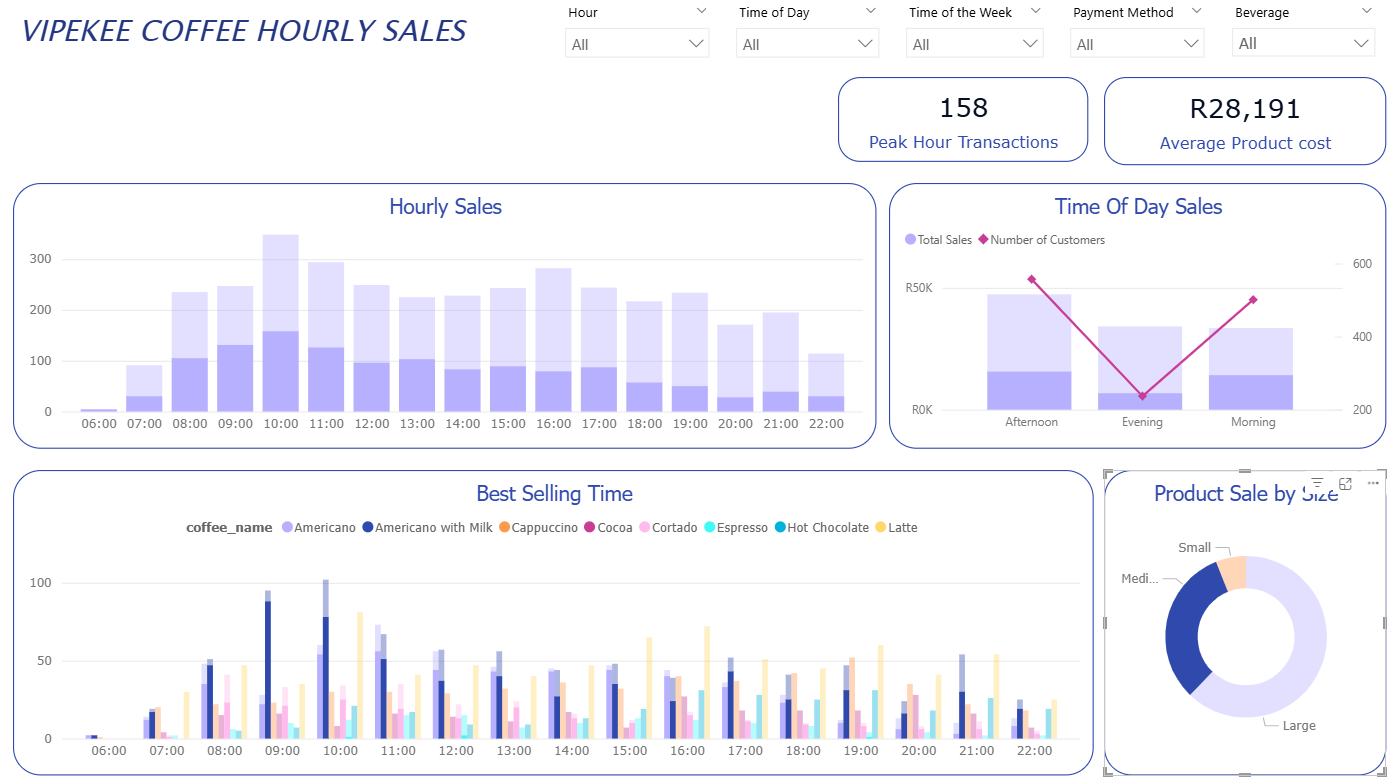

The page's visual inventory and layout, read from the dashboard file:
{"tool":"powerbi","page":{"name":"Hourly report","canvas":[1280,720],"ordinal":1},"visuals":[{"type":"clusteredColumnChart","title":"Hourly Sales ","fields":{"Category":["Coffee_Shop_Facts.Hour Label"],"Y":["Coffee_Shop_Facts.Total Transactions"]},"box":[18.1,172.3,782.6,241.2],"z":0},{"type":"slicer","fields":{"Values":["Dim_Payment.Day_Type"]},"box":[817.9,3.6,145.1,65.3],"z":1000},{"type":"lineStackedColumnComboChart","title":"Time Of Day Sales","fields":{"Category":["Dim_time.TimeOfDay"],"Y":["Sum(Coffee_Shop_Facts.money)"],"Y2":["CountNonNull(Coffee_Shop_Facts.card)"]},"box":[812.5,172.3,450.7,241.2],"z":2000},{"type":"slicer","fields":{"Values":["Dim_time.TimeOfDay"]},"box":[664.2,3.6,149.6,65.3],"z":3000},{"type":"slicer","fields":{"Values":["Coffee_Shop_Facts.PaymentMethod"]},"box":[967.1,3.6,142.4,65.3],"z":4000},{"type":"cardVisual","fields":{"Data":["Avg(Coffee_Shop_Facts.money)"]},"box":[1007.5,76.2,255.7,79.8],"z":7000},{"type":"slicer","fields":{"Values":["Coffee_Shop_Facts.coffee_name"]},"box":[1113.6,3.6,149.6,65.3],"z":10000},{"type":"donutChart","title":"Product Sale by Size","fields":{"Category":["Coffee_Shop_Facts.size"],"Y":["Sum(Coffee_Shop_Facts.money)"]},"box":[1007.5,432.5,255.7,277.5],"z":11000},{"type":"clusteredColumnChart","title":"Best Selling Time ","fields":{"Category":["Coffee_Shop_Facts.Hour Label"],"Series":["Coffee_Shop_Facts.coffee_name"],"Y":["Coffee_Shop_Facts.Total Transactions"]},"box":[18.1,432.5,980.3,277.5],"z":12000},{"type":"slicer","fields":{"Values":["Coffee_Shop_Facts.Hour"]},"box":[508.7,3.6,151.4,58.9],"z":13000},{"type":"cardVisual","fields":{"Data":["Coffee_Shop_Facts.Peak Hour Transactions"]},"box":[766.2,76.2,226.7,77.1],"z":14000},{"type":"textbox","box":[18.1,10,458.8,52.6],"z":14001}]}

Visuals, with their boxes in screenshot pixels (x1, y1, x2, y2), scaled from the page's 1280x720 canvas onto the 1396x782 screenshot:
"Hourly Sales " clusteredColumnChart: left=20, top=187, right=873, bottom=449
slicer - Dim_Payment.Day_Type: left=892, top=4, right=1050, bottom=75
"Time Of Day Sales" lineStackedColumnComboChart: left=886, top=187, right=1378, bottom=449
slicer - Dim_time.TimeOfDay: left=724, top=4, right=888, bottom=75
slicer - Coffee_Shop_Facts.PaymentMethod: left=1055, top=4, right=1210, bottom=75
cardVisual - Avg(Coffee_Shop_Facts.money): left=1099, top=83, right=1378, bottom=169
slicer - Coffee_Shop_Facts.coffee_name: left=1215, top=4, right=1378, bottom=75
"Product Sale by Size" donutChart: left=1099, top=470, right=1378, bottom=771
"Best Selling Time " clusteredColumnChart: left=20, top=470, right=1089, bottom=771
slicer - Coffee_Shop_Facts.Hour: left=555, top=4, right=720, bottom=68
cardVisual - Coffee_Shop_Facts.Peak Hour Transactions: left=836, top=83, right=1083, bottom=167
textbox: left=20, top=11, right=520, bottom=68
